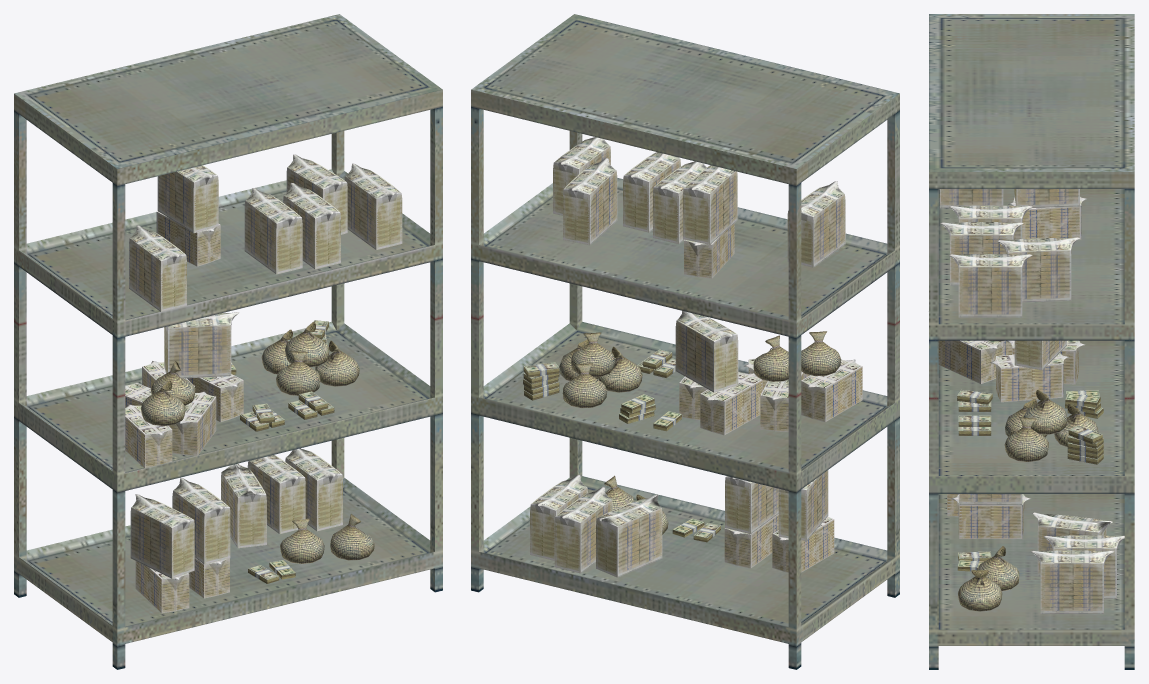
File: moneyshelf.fbx
The picture shows the model from 3 angles, left to right: view 1: azimuth 30°, elevation 25°; view 2: azimuth 150°, elevation 25°; view 3: azimuth 270°, elevation 25°; orthographic projection.
Visible parts, largest first — view 1: mesh_0; view 2: mesh_0; view 3: mesh_0.
Part boxes in pixels (box(x1,y1,x2,y2)): mesh_0: box(14, 14, 442, 669); mesh_0: box(471, 14, 899, 669); mesh_0: box(929, 14, 1134, 669).
Size of the model in its own units: 200 by 294 by 110.
1 material, 1 textured.
